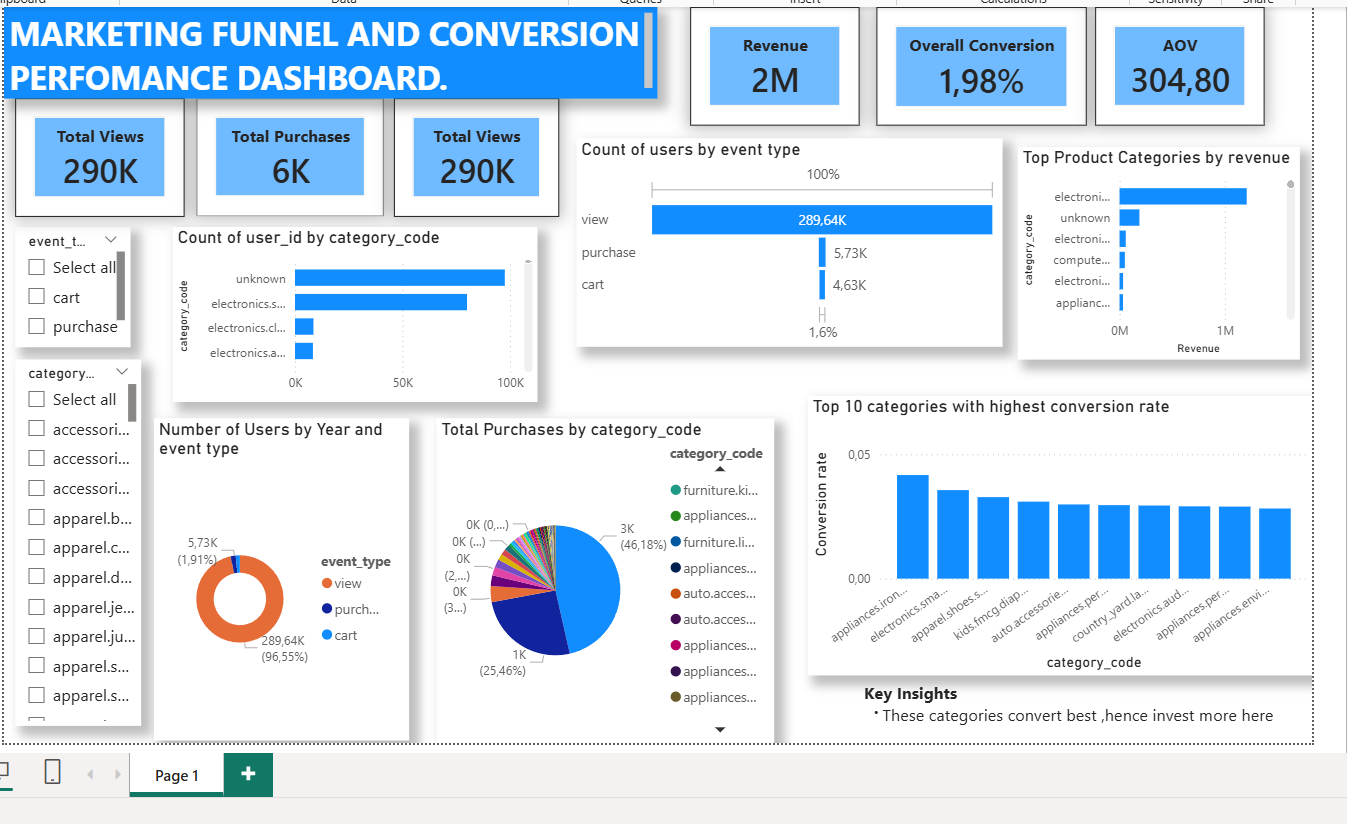

This screenshot's page, from the dashboard's own definition file:
{"tool":"powerbi","page":{"name":"Page 1","canvas":[1280,720],"ordinal":0},"visuals":[{"type":"slicer","fields":{"Values":["clean_funnel_data.event_type"]},"box":[11,215.2,112.5,117.4],"z":0},{"type":"slicer","fields":{"Values":["clean_funnel_data.category_code"]},"box":[11,344.8,123.5,358.3],"z":1000},{"type":"cardVisual","fields":{"Data":["clean_funnel_data.Total Views"]},"box":[11.6,88.7,165.8,115.7],"z":3000},{"type":"cardVisual","fields":{"Data":["clean_funnel_data.Total Purchases"]},"box":[188.3,89.3,183.4,114.9],"z":4000},{"type":"cardVisual","fields":{"Data":["clean_funnel_data.Total Views"]},"box":[381.7,88.7,161.9,115.7],"z":5000},{"type":"cardVisual","fields":{"Data":["clean_funnel_data.Revenue"]},"box":[670.8,0,165.8,115.7],"z":6000},{"type":"cardVisual","fields":{"Data":["clean_funnel_data.Overall Conversion"]},"box":[853.5,0,205.4,116.2],"z":7000},{"type":"cardVisual","fields":{"Data":["clean_funnel_data.AOV"]},"box":[1068,0,165.8,115.7],"z":8000},{"type":"funnel","title":"Count of users by event type","fields":{"Category":["clean_funnel_data.event_type"],"Y":["CountNonNull(clean_funnel_data.user_id)"]},"box":[560.1,128.4,417,204.2],"z":9000},{"type":"clusteredBarChart","fields":{"Category":["clean_funnel_data.category_code"],"Y":["CountNonNull(clean_funnel_data.user_id)"]},"box":[165.1,215.2,357.1,171.2],"z":10000},{"type":"donutChart","title":"Number of Users by Year and event type","fields":{"Category":["clean_funnel_data.event_type"],"Y":["CountNonNull(clean_funnel_data.user_id)"]},"box":[146.7,402.3,249.5,315.5],"z":11000},{"type":"barChart","title":"Top Product Categories by revenue","fields":{"Category":["clean_funnel_data.category_code"],"Y":["clean_funnel_data.Revenue"]},"box":[991.7,137,276.4,207.9],"z":12000},{"type":"textbox","box":[836.4,654.2,443.9,64.8],"z":13000},{"type":"pieChart","fields":{"Category":["clean_funnel_data.category_code"],"Y":["clean_funnel_data.Total Purchases"]},"box":[423.1,402.3,330.2,317.9],"z":14000},{"type":"clusteredColumnChart","title":"Top 10 categories with highest conversion rate","fields":{"Category":["clean_funnel_data.category_code"],"Y":["clean_funnel_data.Conversion rate"]},"box":[786.3,380.3,494,273.9],"z":15000},{"type":"textbox","box":[0,0,639.5,89.3],"z":15001}]}

Visuals, with their boxes in screenshot pixels (x1, y1, x2, y2):
slicer - clean_funnel_data.event_type: <region>4, 227, 121, 349</region>
slicer - clean_funnel_data.category_code: <region>4, 361, 133, 733</region>
cardVisual - clean_funnel_data.Total Views: <region>5, 96, 177, 216</region>
cardVisual - clean_funnel_data.Total Purchases: <region>188, 96, 379, 215</region>
cardVisual - clean_funnel_data.Total Views: <region>389, 96, 557, 216</region>
cardVisual - clean_funnel_data.Revenue: <region>689, 4, 861, 124</region>
cardVisual - clean_funnel_data.Overall Conversion: <region>879, 4, 1092, 124</region>
cardVisual - clean_funnel_data.AOV: <region>1101, 4, 1273, 124</region>
"Count of users by event type" funnel: <region>574, 137, 1007, 349</region>
clusteredBarChart - clean_funnel_data.category_code x CountNonNull(clean_funnel_data.user_id): <region>164, 227, 535, 405</region>
"Number of Users by Year and event type" donutChart: <region>145, 421, 404, 748</region>
"Top Product Categories by revenue" barChart: <region>1022, 146, 1309, 361</region>
textbox: <region>861, 682, 1322, 750</region>
pieChart - clean_funnel_data.category_code x clean_funnel_data.Total Purchases: <region>432, 421, 775, 751</region>
"Top 10 categories with highest conversion rate" clusteredColumnChart: <region>809, 398, 1322, 682</region>
textbox: <region>0, 4, 657, 96</region>
